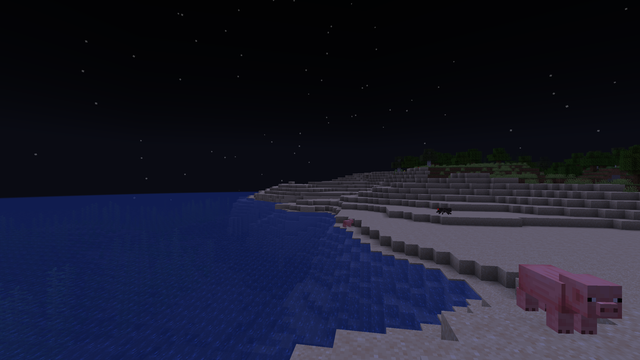araignees: (436, 206, 450, 214)
cochons: (514, 262, 605, 336), (343, 219, 349, 226)
